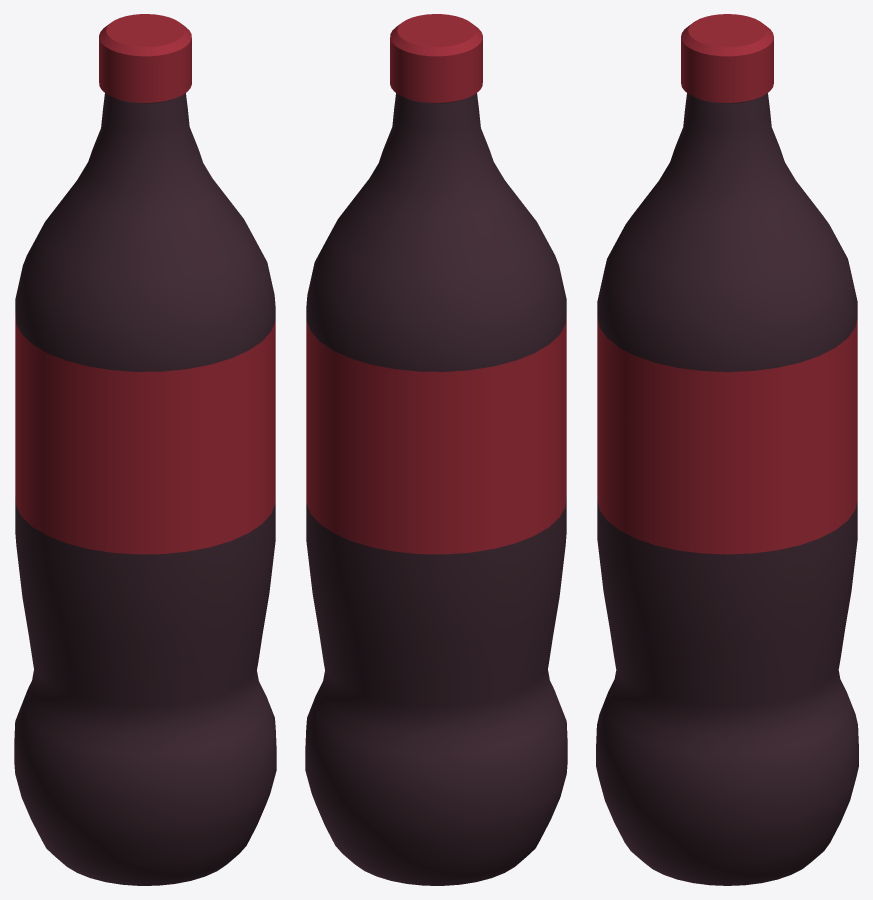
File: CocaCola.fbx
3 views of the same model, side by side, from view 1: azimuth 30°, elevation 25°; view 2: azimuth 150°, elevation 25°; view 3: azimuth 270°, elevation 25° (orthographic).
Parts seen in each view (by area): view 1: Bootle.002, Nut; view 2: Bootle.002, Nut; view 3: Bootle.002, Nut.
Boxes of the visible parts, x1,y1,x2,y2 form: Bootle.002: (14, 93, 276, 885); Nut: (99, 14, 191, 102); Bootle.002: (305, 93, 567, 885); Nut: (390, 14, 482, 102); Bootle.002: (596, 93, 858, 885); Nut: (681, 14, 773, 102).
Size of the model in its own units: 138 by 472 by 138.
